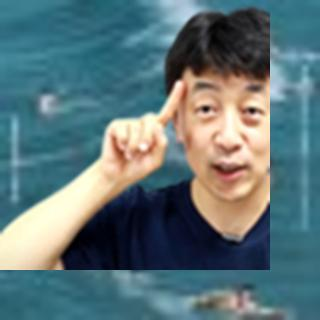IRRITATED: (99, 75, 188, 187)
